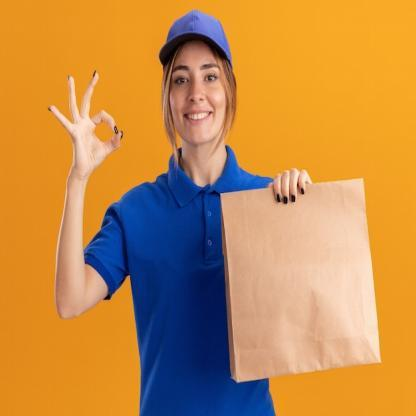ok: (46, 64, 128, 173)
